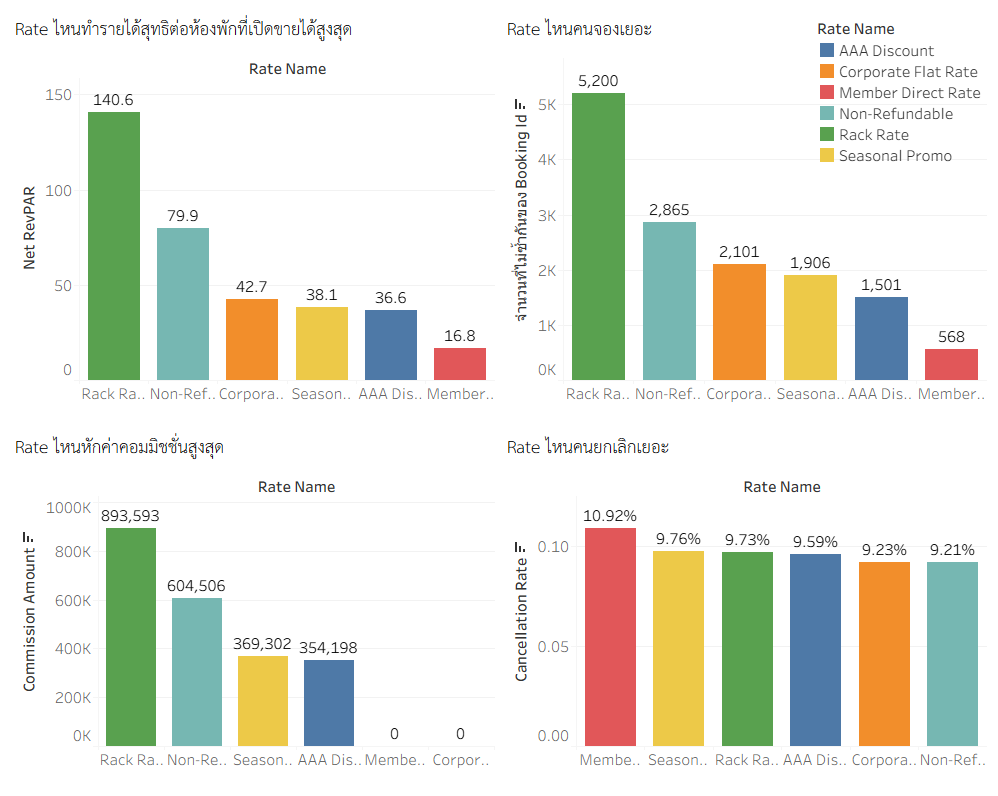

What the dashboard file says about the page in this screenshot:
{"tool":"tableau","page":{"name":"Hypothesis 4","canvas":[1000,800],"ordinal":3},"visuals":[{"type":"worksheet","title":"Hypo4.1","mark":"Automatic","rows":["Calculation_1451143027892229"],"cols":["rate_name"],"box":[8,8,492,418]},{"type":"worksheet","title":"Hypo4.3","mark":"Automatic","rows":["booking_id"],"cols":["rate_name"],"box":[500,8,492,418]},{"type":"legend","title":"Hypo4.1","param":"[federated.1x517gi0hm7rn410mgvlh0y56cgc].[none:rate_name:nk]","box":[818,20,169,148]},{"type":"worksheet","title":"Hypo4.2","mark":"Automatic","rows":["commission_amount"],"cols":["rate_name"],"box":[8,426,492,366]},{"type":"worksheet","title":"Hypo4.4","mark":"Automatic","rows":["Calculation_1589407887503360"],"cols":["rate_name"],"box":[500,426,492,366]}]}

Visuals, with their boxes in screenshot pixels (x1, y1, x2, y2), scaled from the page's 1000x800 canvas onto the 998x796 screenshot:
"Hypo4.1" worksheet: region(8, 8, 499, 424)
"Hypo4.3" worksheet: region(499, 8, 990, 424)
"Hypo4.1" legend: region(816, 20, 985, 167)
"Hypo4.2" worksheet: region(8, 424, 499, 788)
"Hypo4.4" worksheet: region(499, 424, 990, 788)
